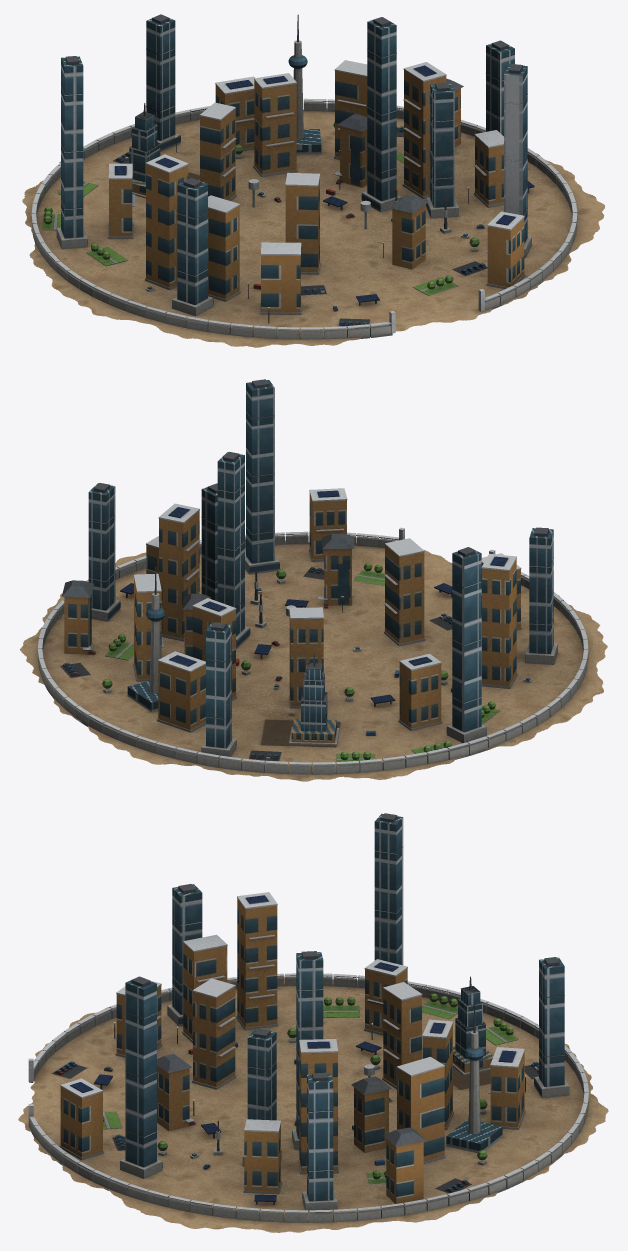
Rendered from information-town-big-a-indic.glb.
The picture shows the model from 3 angles, top to bottom: view 1: azimuth 30°, elevation 25°; view 2: azimuth 150°, elevation 25°; view 3: azimuth 270°, elevation 25°; orthographic projection. The views are drawn at different scales.
Visible parts, largest first — view 1: LOD0; view 2: LOD0; view 3: LOD0.
Part boxes in pixels (x1,y1,x2,y2): LOD0: (22,14,604,347); LOD0: (20,379,607,781); LOD0: (18,813,608,1232).
Size of what is drawn, in the model's own units: 7.98 by 2.72 by 7.71.
3 materials, 3 textured.
